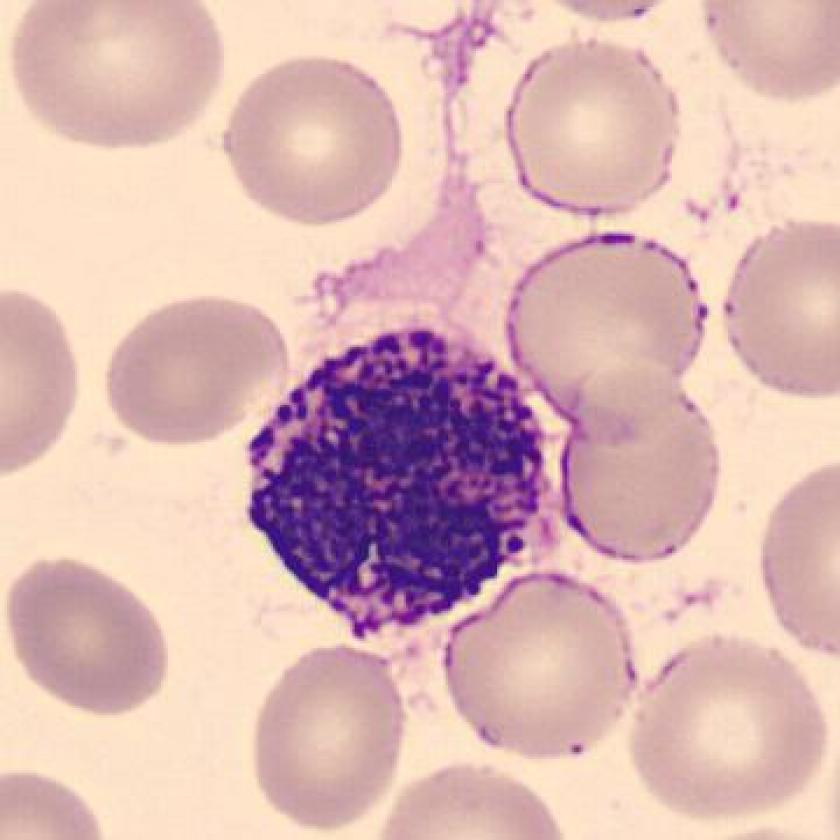basophil: (244, 327, 566, 656)
